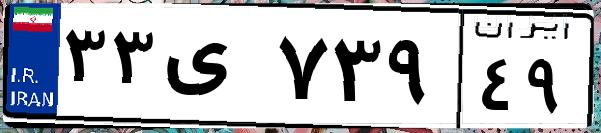3: (330, 28, 385, 110), (57, 26, 110, 100), (110, 28, 158, 98)
4: (475, 38, 525, 113)
7: (270, 28, 330, 110)
9: (385, 28, 445, 110), (525, 38, 570, 115)
ی: (158, 20, 270, 120)
